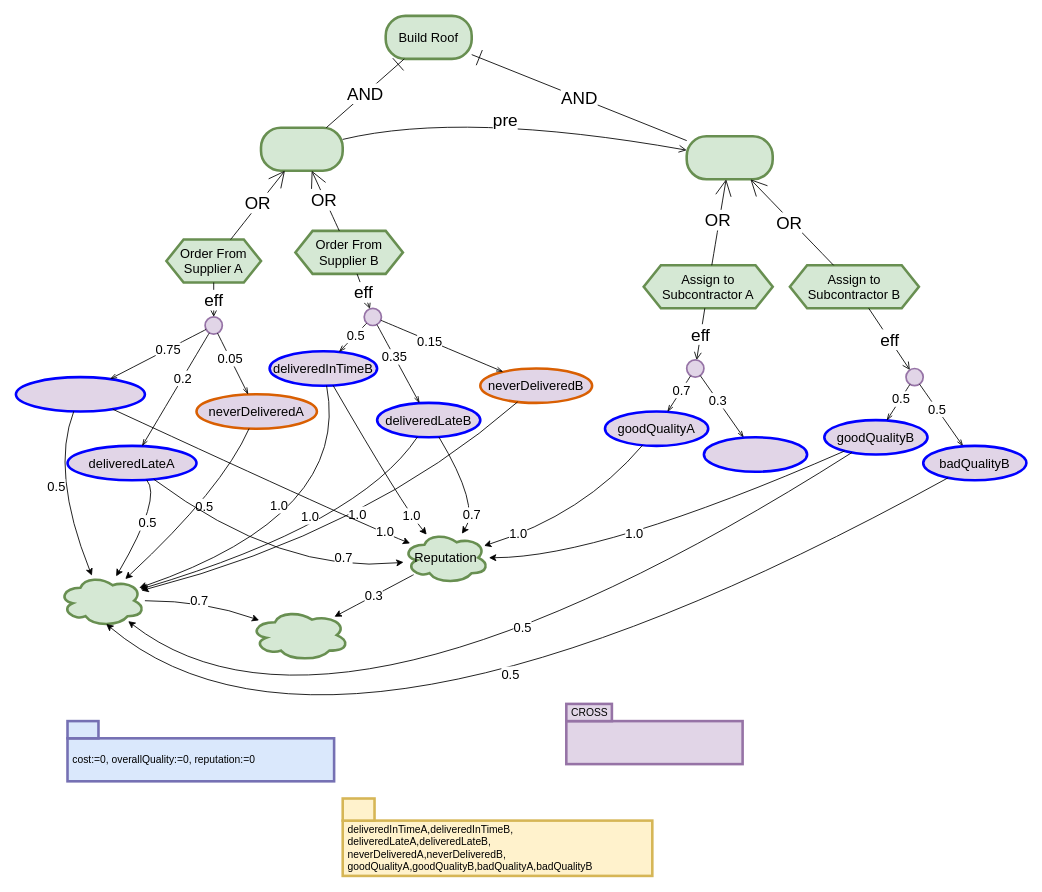
This 1042x892 diagram has some shape labels left out. Here are the shapes that lost their labels. From the top down, the box of each, then its label:
(259, 126, 344, 172): Order Material
(685, 135, 774, 180): Assign Work
(14, 375, 146, 412): deliveredInTimeA
(702, 436, 808, 473): badQualityA
(57, 573, 146, 627): Cost
(249, 608, 350, 662): Overall Quality
(66, 719, 99, 739): INIT
(565, 719, 743, 765): cost, reputation
(341, 797, 375, 821): EXP
